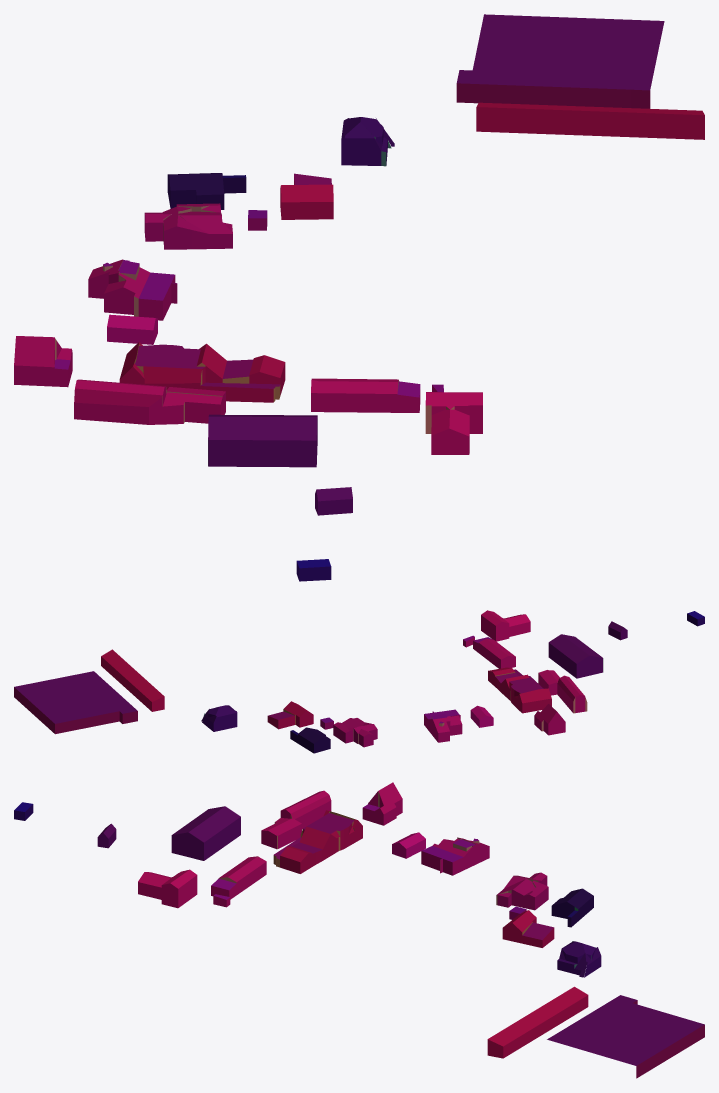
Rendered from buildings_13_5.glb.
The picture shows the model from 3 angles, top to bottom: view 1: azimuth 30°, elevation 25°; view 2: azimuth 150°, elevation 25°; view 3: azimuth 270°, elevation 25°; orthographic projection. The views are drawn at different scales.
Parts seen in each view (by area): view 1: buildings_13_5; view 2: buildings_13_5; view 3: buildings_13_5.
Part boxes in pixels (x1,y1,x2,y2): buildings_13_5: [14, 14, 704, 581]; buildings_13_5: [14, 610, 704, 753]; buildings_13_5: [14, 782, 704, 1078].
Bounding box in the file's own units: 194 × 9.23 × 208.
